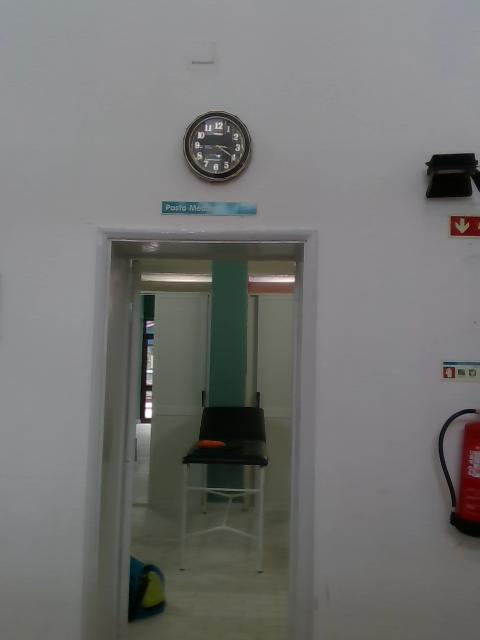open_door: (76, 224, 319, 638)
